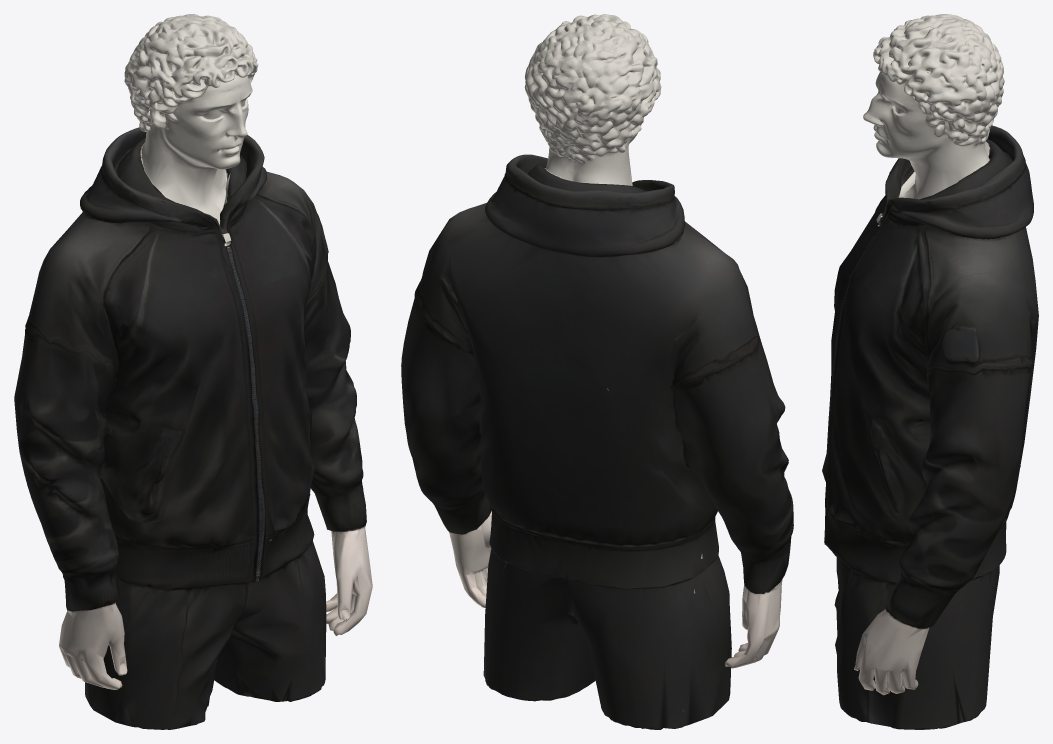
The model's file is hoodie-sculpture-bound.glb.
The picture shows the model from 3 angles, left to right: view 1: azimuth 30°, elevation 25°; view 2: azimuth 150°, elevation 25°; view 3: azimuth 270°, elevation 25°; orthographic projection. The views are drawn at different scales.
Visible parts, largest first — view 1: model; view 2: model; view 3: model.
Boxes of the visible parts, x1=… form: model: x1=14, y1=14, x2=372, y2=729; model: x1=401, y1=14, x2=793, y2=729; model: x1=822, y1=14, x2=1038, y2=729.
Size of the model in its own units: 1.03 by 1.9 by 0.5682.
Materials: 2 (1 with a texture image).
